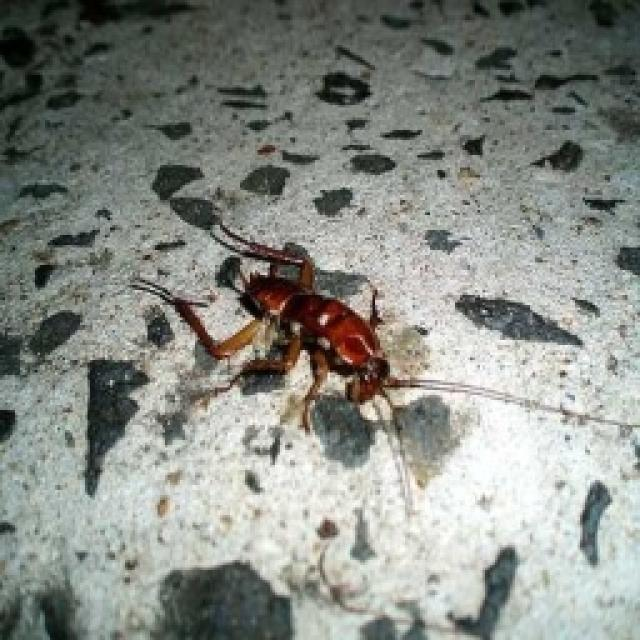cockroach: (167, 228, 461, 442)
